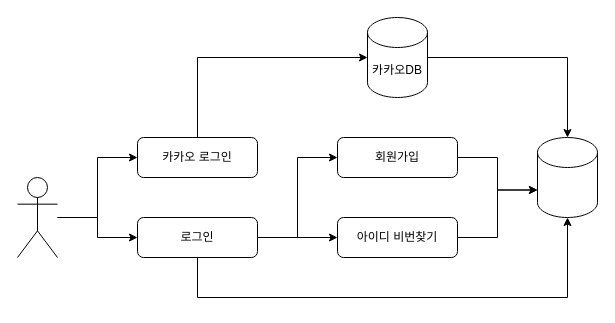
Some shapes in this 615 by 323 pixel diagram are drawn without their labels. The shapes that lost their labels are listed below. From the top down, each one's box as (x1, y1, x2, y2) in pixels, then its label:
(536, 136, 598, 218): DB
(16, 176, 58, 258): Actor
